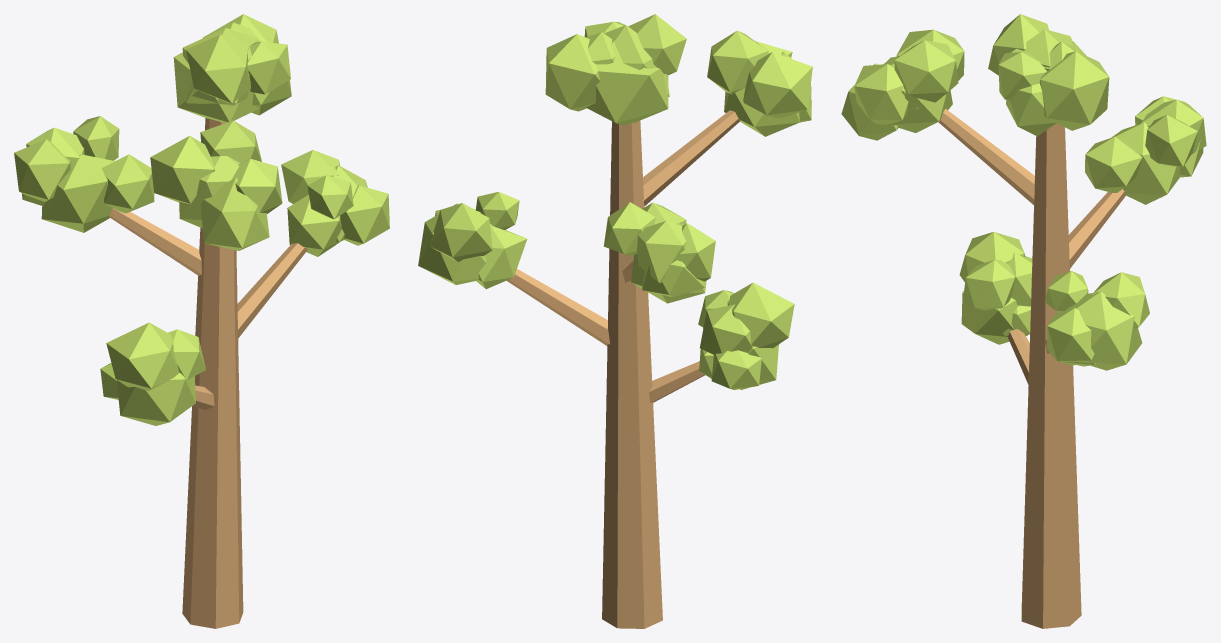
Rendered from Tree_Tall.fbx.
3 views of the same model, side by side, from view 1: azimuth 30°, elevation 25°; view 2: azimuth 150°, elevation 25°; view 3: azimuth 270°, elevation 25° (orthographic).
Visible parts, largest first — view 1: Tree_Tall; view 2: Tree_Tall; view 3: Tree_Tall.
Part boxes in pixels (<box>): Tree_Tall: <box>14,14,389,628</box>; Tree_Tall: <box>418,14,812,628</box>; Tree_Tall: <box>841,14,1206,628</box>.
Size of the model in its own units: 2.37 by 4.18 by 2.31.
